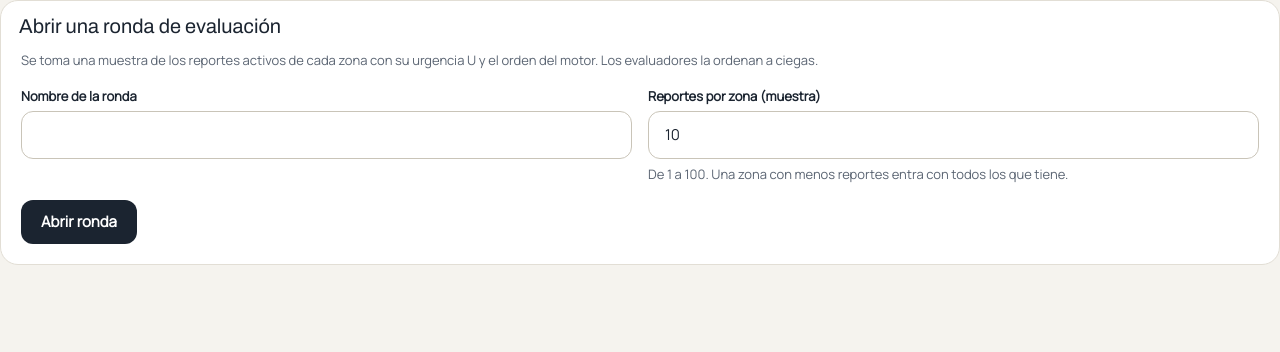
abrir una ronda › no envía un tamaño fuera de 1 a 100 (abc)
Type "Piloto 3" into the field labelled "Nombre de la ronda".
click(326, 134); type("Piloto 3")  # box [21,110,632,158]
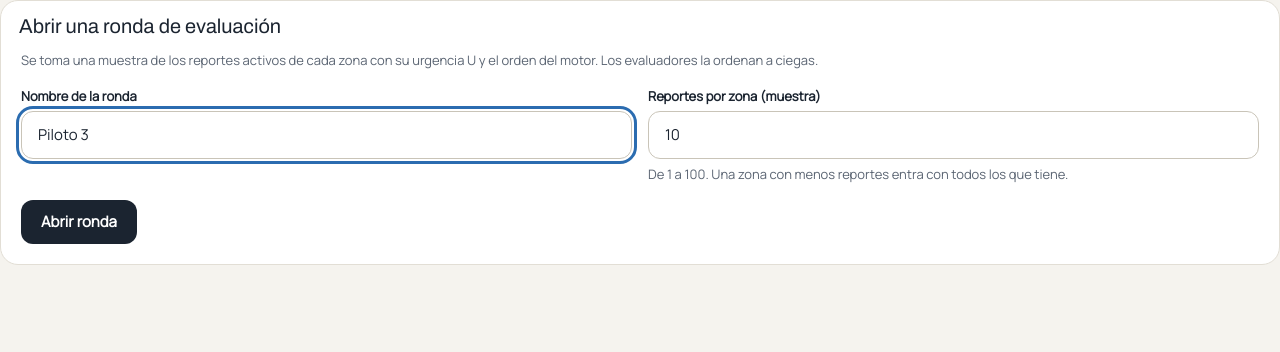
Replace the text in the field labelled "Reportes por zona (muestra)" with "abc" at (954, 134), box [648,110,1259,158]
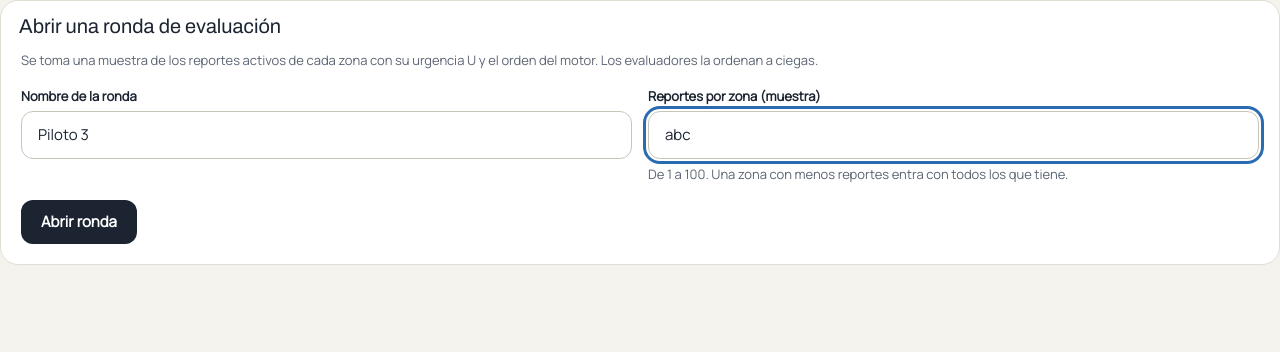
Click the button "Abrir ronda".
click(79, 222)  # box [21,200,137,244]
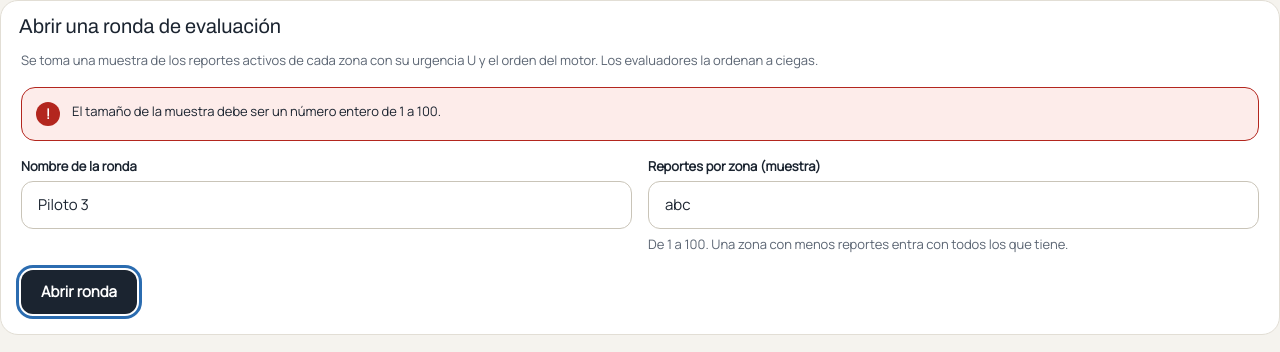
Expected: the message shows "El tamaño de la muestra debe ser un número entero de 1 a 100.", [72,102,441,120]
